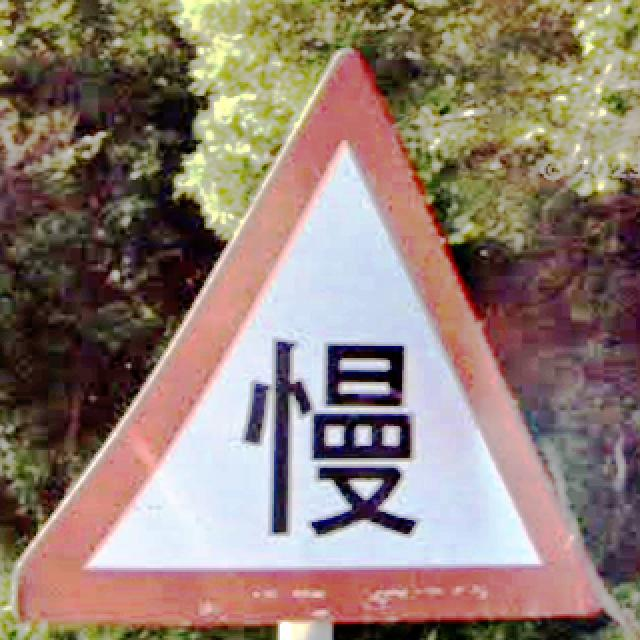slow: (16, 50, 604, 623)
